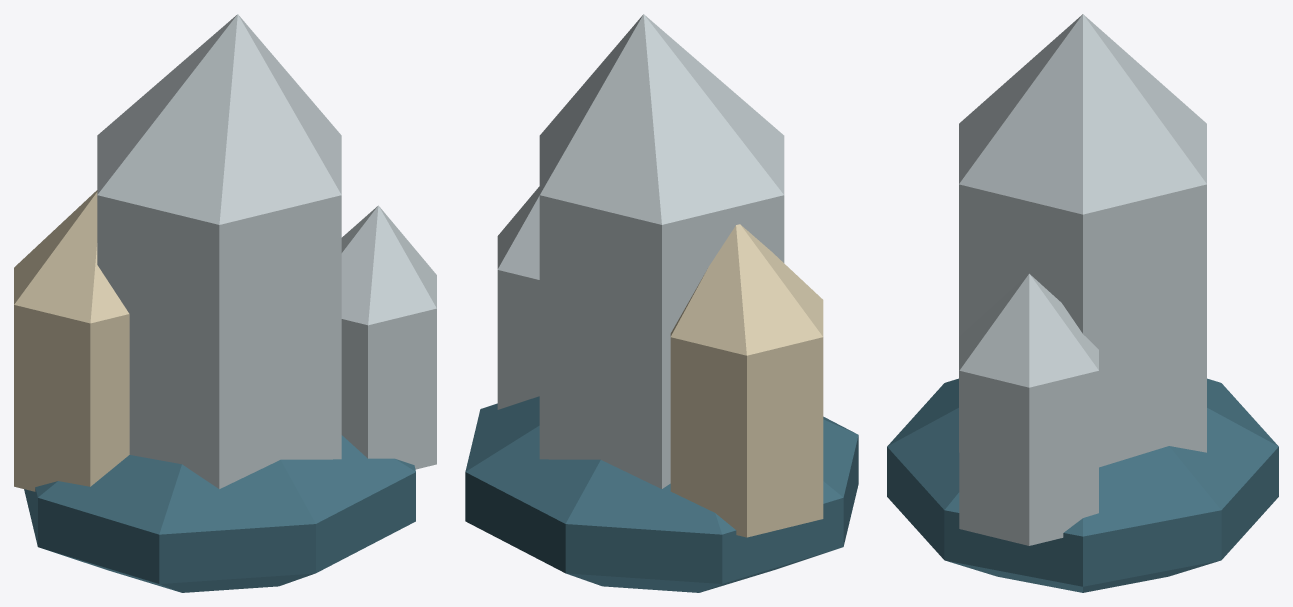
File: marine-loot-4.glb
3 renders of one model, left to right at view 1: azimuth 30°, elevation 25°; view 2: azimuth 150°, elevation 25°; view 3: azimuth 270°, elevation 25°, orthographic.
Parts seen in each view (by area): view 1: marine-loot-4; view 2: marine-loot-4; view 3: marine-loot-4.
Boxes of the visible parts, bbox=[...] form: marine-loot-4: bbox=[14, 14, 436, 592]; marine-loot-4: bbox=[465, 14, 858, 592]; marine-loot-4: bbox=[887, 14, 1278, 592].
Size of the model in its own units: 0.98 by 1.35 by 0.875.
